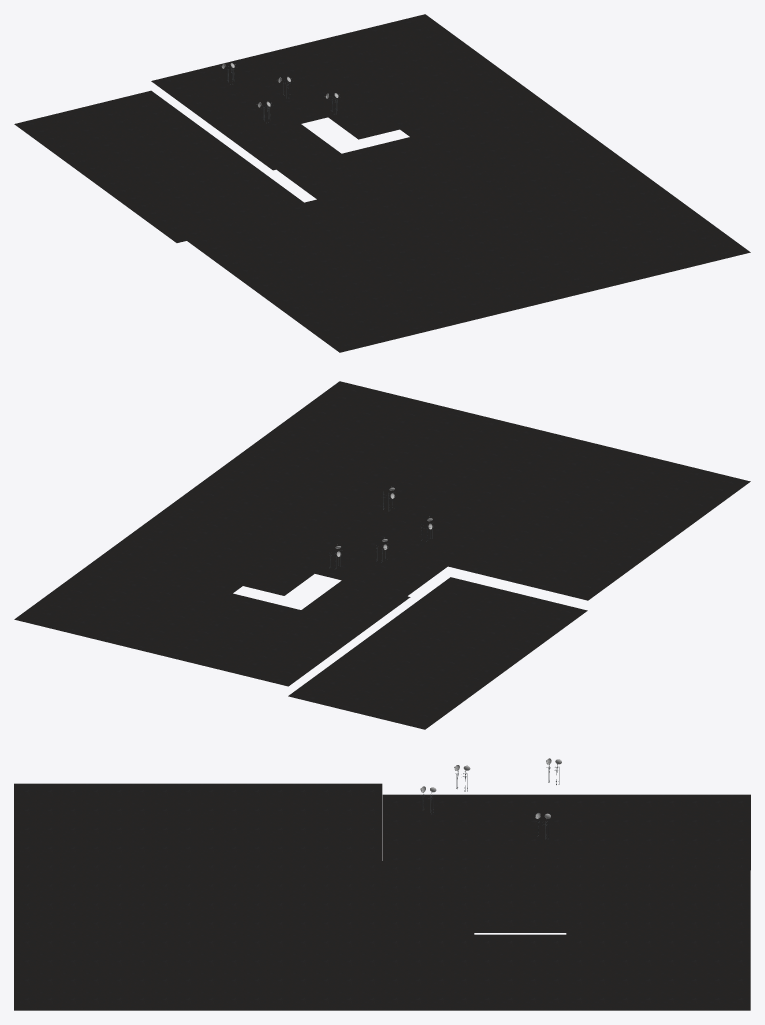
Rendered from asset2.gltf.
The picture shows the model from 3 angles, top to bottom: view 1: azimuth 30°, elevation 25°; view 2: azimuth 150°, elevation 25°; view 3: azimuth 270°, elevation 25°; orthographic projection. The views are drawn at different scales.
Visible parts, largest first — view 1: no part large enough to name; view 2: no part large enough to name; view 3: SM_Floor24, SM_Floor149, SM_Floor153, SM_Floor25, SM_Floor158, SM_Floor160, SM_Floor163, SM_Floor28, SM_Floor177, SM_Floor181, SM_Floor183, SM_Floor23 (+348 smaller).
Part boxes in pixels (x1,y1,x2,y2): SM_Floor24: [520, 991, 543, 1010]; SM_Floor149: [474, 991, 497, 1010]; SM_Floor153: [474, 972, 497, 991]; SM_Floor25: [612, 991, 635, 1010]; SM_Floor158: [612, 972, 635, 991]; SM_Floor160: [566, 972, 589, 991]; SM_Floor163: [658, 991, 681, 1010]; SM_Floor28: [520, 953, 543, 972]; SM_Floor177: [474, 953, 497, 972]; SM_Floor181: [474, 934, 497, 953]; SM_Floor183: [612, 953, 635, 972]; SM_Floor23: [428, 991, 451, 1010].
Bounding box in the file's own units: 159 × 35.02 × 219.
